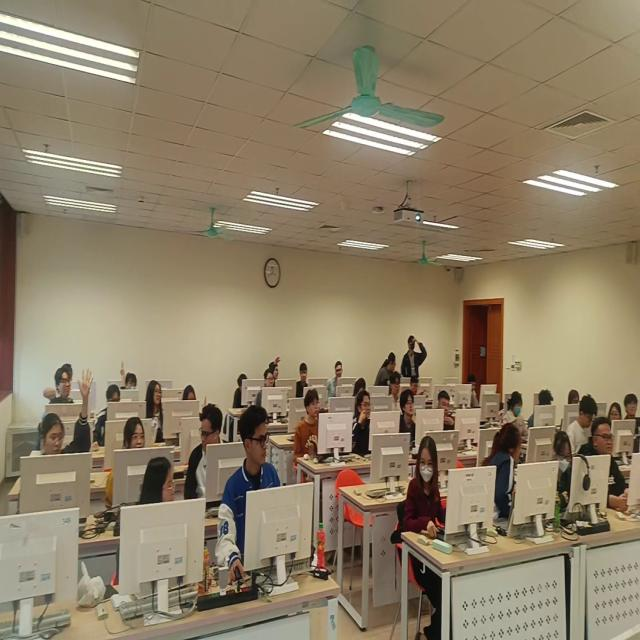raise_hand: (33, 369, 94, 456), (184, 385, 209, 414), (121, 362, 138, 391), (267, 357, 282, 380)
raise_head: (579, 418, 634, 512), (106, 417, 146, 510), (294, 388, 320, 462), (352, 391, 373, 455), (401, 390, 416, 455), (51, 368, 76, 406), (625, 393, 640, 453), (146, 382, 163, 434), (256, 370, 275, 409), (327, 361, 345, 401), (297, 362, 310, 400), (391, 372, 403, 410)
stand: (480, 423, 523, 525), (402, 335, 429, 384), (375, 352, 397, 387)
using_computer: (404, 436, 443, 534), (569, 395, 599, 456), (549, 433, 573, 505), (95, 386, 121, 452), (504, 392, 529, 441), (44, 364, 73, 406), (529, 389, 554, 429), (561, 389, 581, 431), (439, 392, 456, 433), (233, 374, 251, 409), (468, 375, 481, 409)
using_phone: (410, 377, 426, 397)
